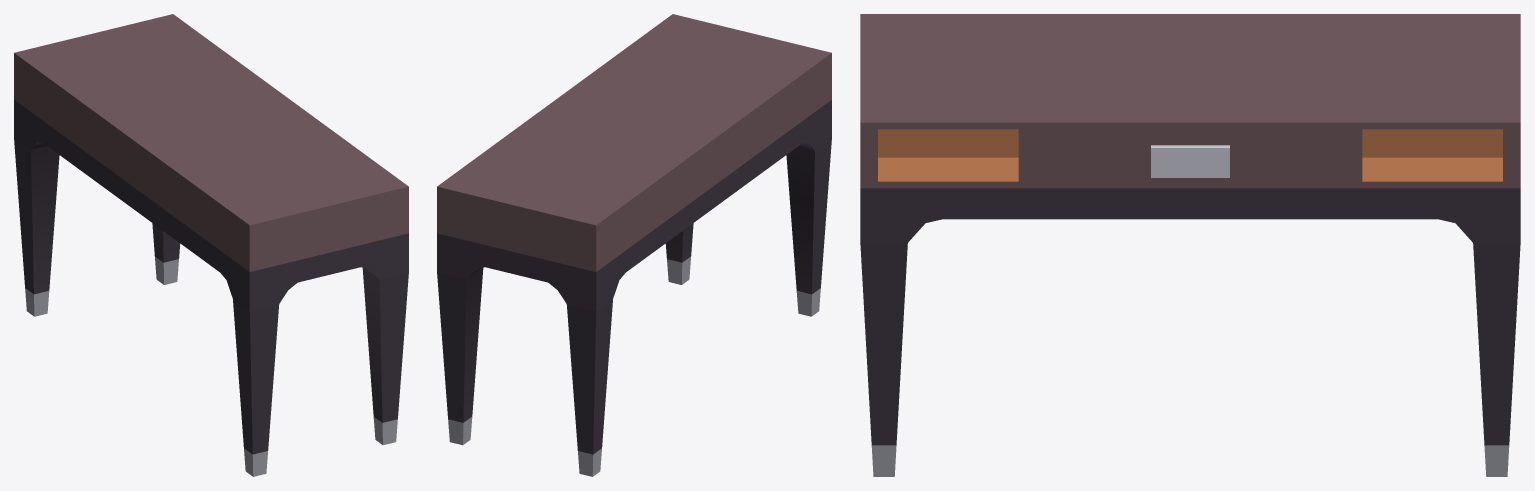
File: BedroomDesk.fbx
3 views of the same model, side by side, from view 1: azimuth 30°, elevation 25°; view 2: azimuth 150°, elevation 25°; view 3: azimuth 270°, elevation 25° (orthographic). The views are drawn at different scales.
Visible parts, largest first — view 1: BedroomDesk; view 2: BedroomDesk; view 3: BedroomDesk.
Boxes of the visible parts, left/top/right/bottom form: BedroomDesk: left=14, top=14, right=408, bottom=476; BedroomDesk: left=437, top=14, right=831, bottom=476; BedroomDesk: left=860, top=14, right=1520, bottom=476.
Bounding box in the file's own units: 0.6648 × 1 × 1.67.
